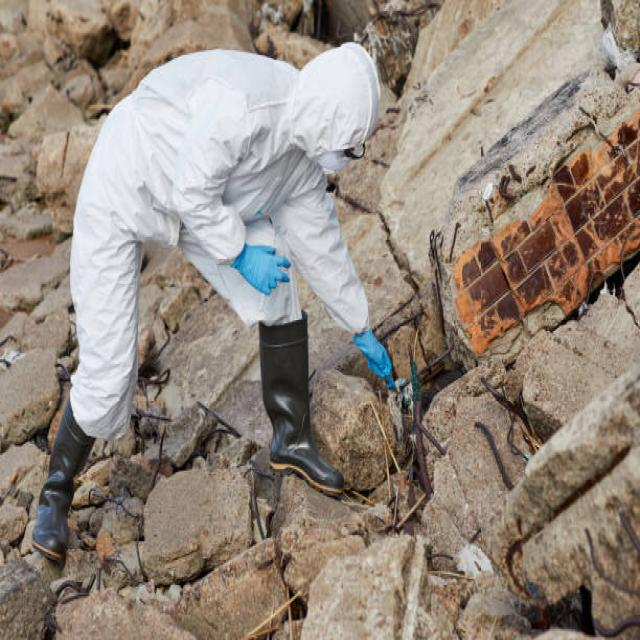gloves: (231, 236, 293, 294), (356, 328, 398, 392)
